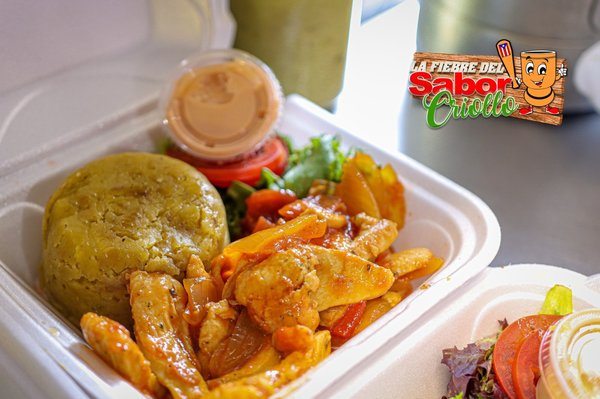pizza: (408, 1, 600, 131)
sushi: (0, 84, 503, 393)
